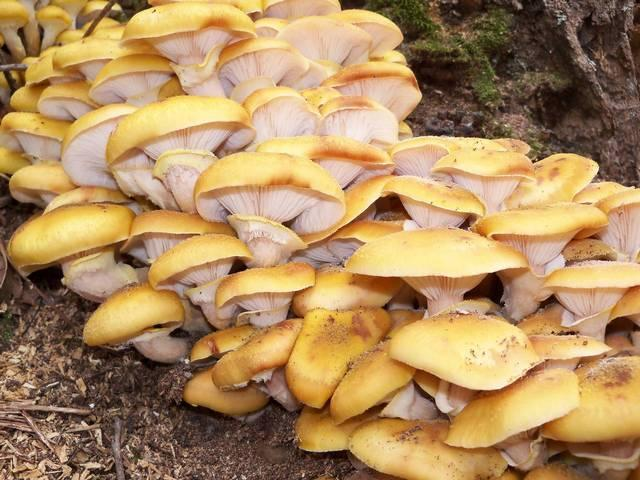edible_mushroom: (1, 0, 638, 478)
